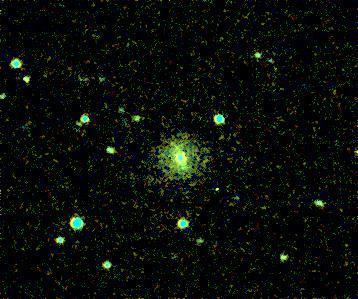star: (159, 127, 189, 157)
